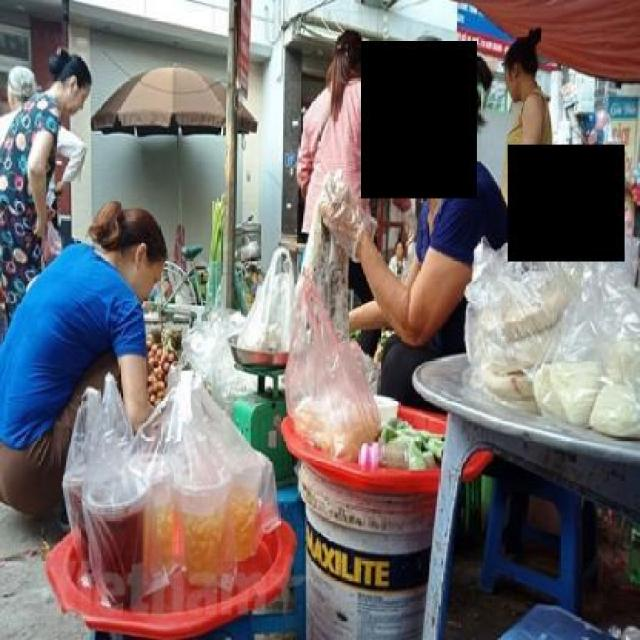plastic bag: (69, 343, 302, 623), (454, 162, 638, 430), (48, 378, 155, 580), (278, 276, 384, 464), (236, 242, 298, 368), (310, 168, 382, 274)
